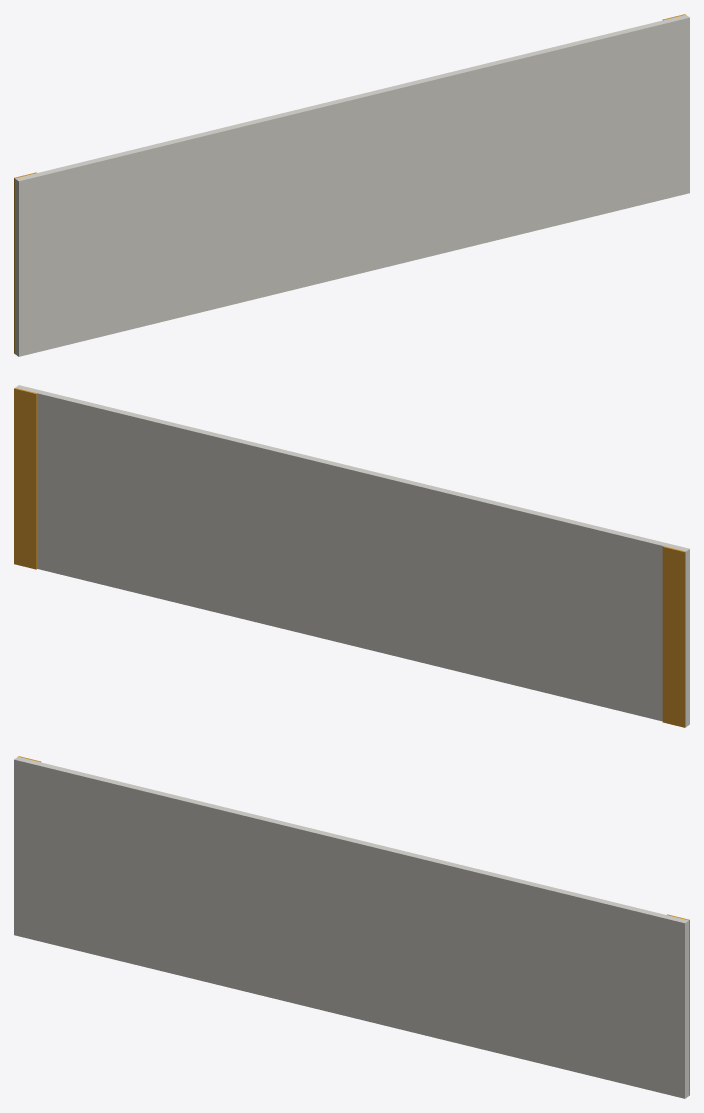
The model's file is ws_door_sign.glb.
3 renders of one model, top to bottom at view 1: azimuth 30°, elevation 25°; view 2: azimuth 150°, elevation 25°; view 3: azimuth 330°, elevation 25°, orthographic.
Visible parts, largest first — view 1: ws_door_sign; view 2: ws_door_sign; view 3: ws_door_sign.
Boxes of the visible parts, <box> form: ws_door_sign: <box>14,14,689,356</box>; ws_door_sign: <box>14,385,689,727</box>; ws_door_sign: <box>14,756,689,1098</box>.
Bounding box in the file's own units: 1.2 × 0.3 × 0.015.
